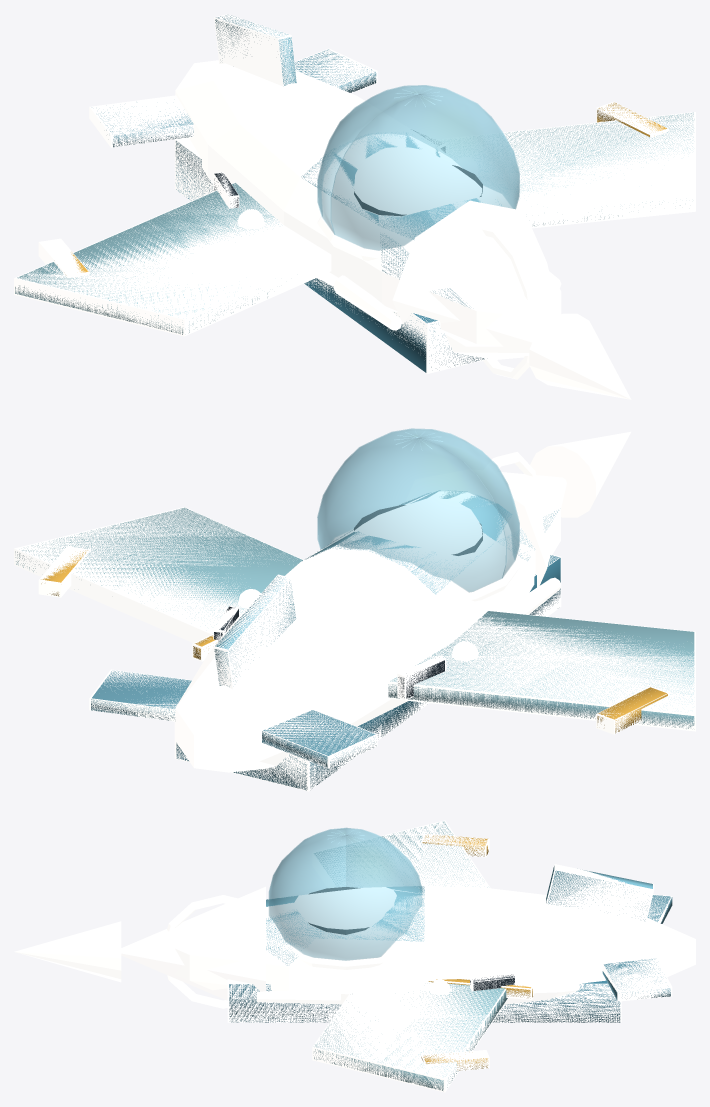
File: materials-before.glb
3 renders of one model, top to bottom at view 1: azimuth 30°, elevation 25°; view 2: azimuth 150°, elevation 25°; view 3: azimuth 270°, elevation 25°, orthographic. The views are drawn at different scales.
Visible parts, largest first — view 1: scout_n2, triple-gate-scout-canopy, scout_n13, scout_n17, scout_n6, scout_n12, scout_n28, scout_n4, scout_n25, scout_n21, scout_n16, scout_n3 (+11 smaller); view 2: scout_n2, triple-gate-scout-canopy, scout_n13, scout_n17, scout_n12, scout_n16, scout_n6, scout_n25, scout_n28, scout_n21, scout_n4, scout_n20 (+12 smaller); view 3: scout_n2, triple-gate-scout-canopy, scout_n17, scout_n6, scout_n13, scout_n4, scout_n3, scout_n25, scout_n16, scout_n28, scout_n1, scout_n23 (+14 smaller).
Part boxes in pixels (left/top/right/bottom): scout_n2: left=175, top=60, right=560, bottom=346; triple-gate-scout-canopy: left=317, top=85, right=519, bottom=250; scout_n13: left=14, top=182, right=331, bottom=336; scout_n17: left=437, top=112, right=695, bottom=228; scout_n6: left=392, top=200, right=558, bottom=361; scout_n12: left=15, top=183, right=278, bottom=334; scout_n28: left=529, top=313, right=631, bottom=399; scout_n4: left=174, top=137, right=561, bottom=373; scout_n25: left=214, top=14, right=296, bottom=86; scout_n21: left=89, top=95, right=193, bottom=147; scout_n16: left=505, top=112, right=694, bottom=225; scout_n3: left=175, top=141, right=484, bottom=372; scout_n2: left=175, top=490, right=560, bottom=772; triple-gate-scout-canopy: left=317, top=428, right=519, bottom=592; scout_n13: left=388, top=610, right=695, bottom=731; scout_n17: left=14, top=507, right=303, bottom=642; scout_n12: left=388, top=611, right=694, bottom=728; scout_n16: left=15, top=507, right=302, bottom=625; scout_n6: left=406, top=469, right=566, bottom=587; scout_n25: left=214, top=574, right=296, bottom=689; scout_n28: left=530, top=431, right=630, bottom=517; scout_n21: left=262, top=709, right=377, bottom=768; scout_n4: left=174, top=554, right=561, bottom=791; scout_n20: left=262, top=710, right=376, bottom=767; scout_n2: left=175, top=885, right=695, bottom=1004; triple-gate-scout-canopy: left=268, top=827, right=422, bottom=960; scout_n17: left=312, top=980, right=508, bottom=1092; scout_n6: left=121, top=886, right=265, bottom=1000; scout_n13: left=312, top=820, right=490, bottom=888; scout_n4: left=227, top=979, right=621, bottom=1022; scout_n3: left=229, top=980, right=620, bottom=1022; scout_n25: left=546, top=864, right=654, bottom=922; scout_n16: left=314, top=984, right=507, bottom=1090; scout_n28: left=14, top=921, right=121, bottom=982; scout_n1: left=266, top=886, right=424, bottom=965; scout_n23: left=602, top=958, right=672, bottom=1001.
Size of the model in its own units: 6 by 1.94 by 6.67.
